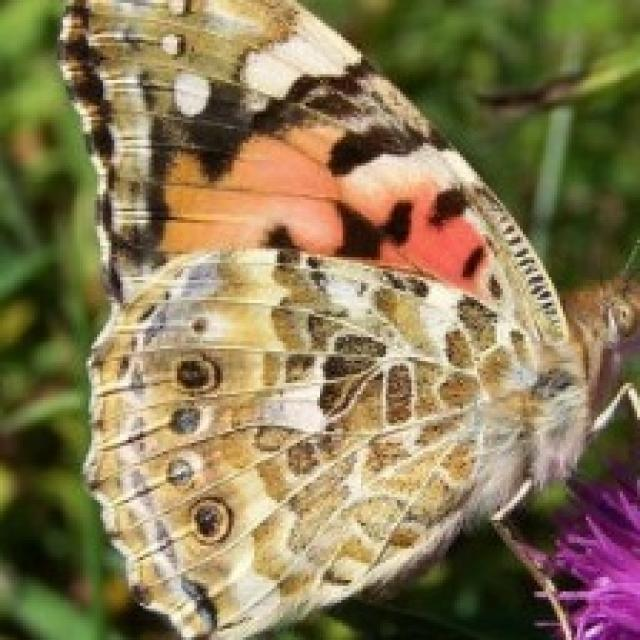butterfly: (52, 0, 637, 637)
